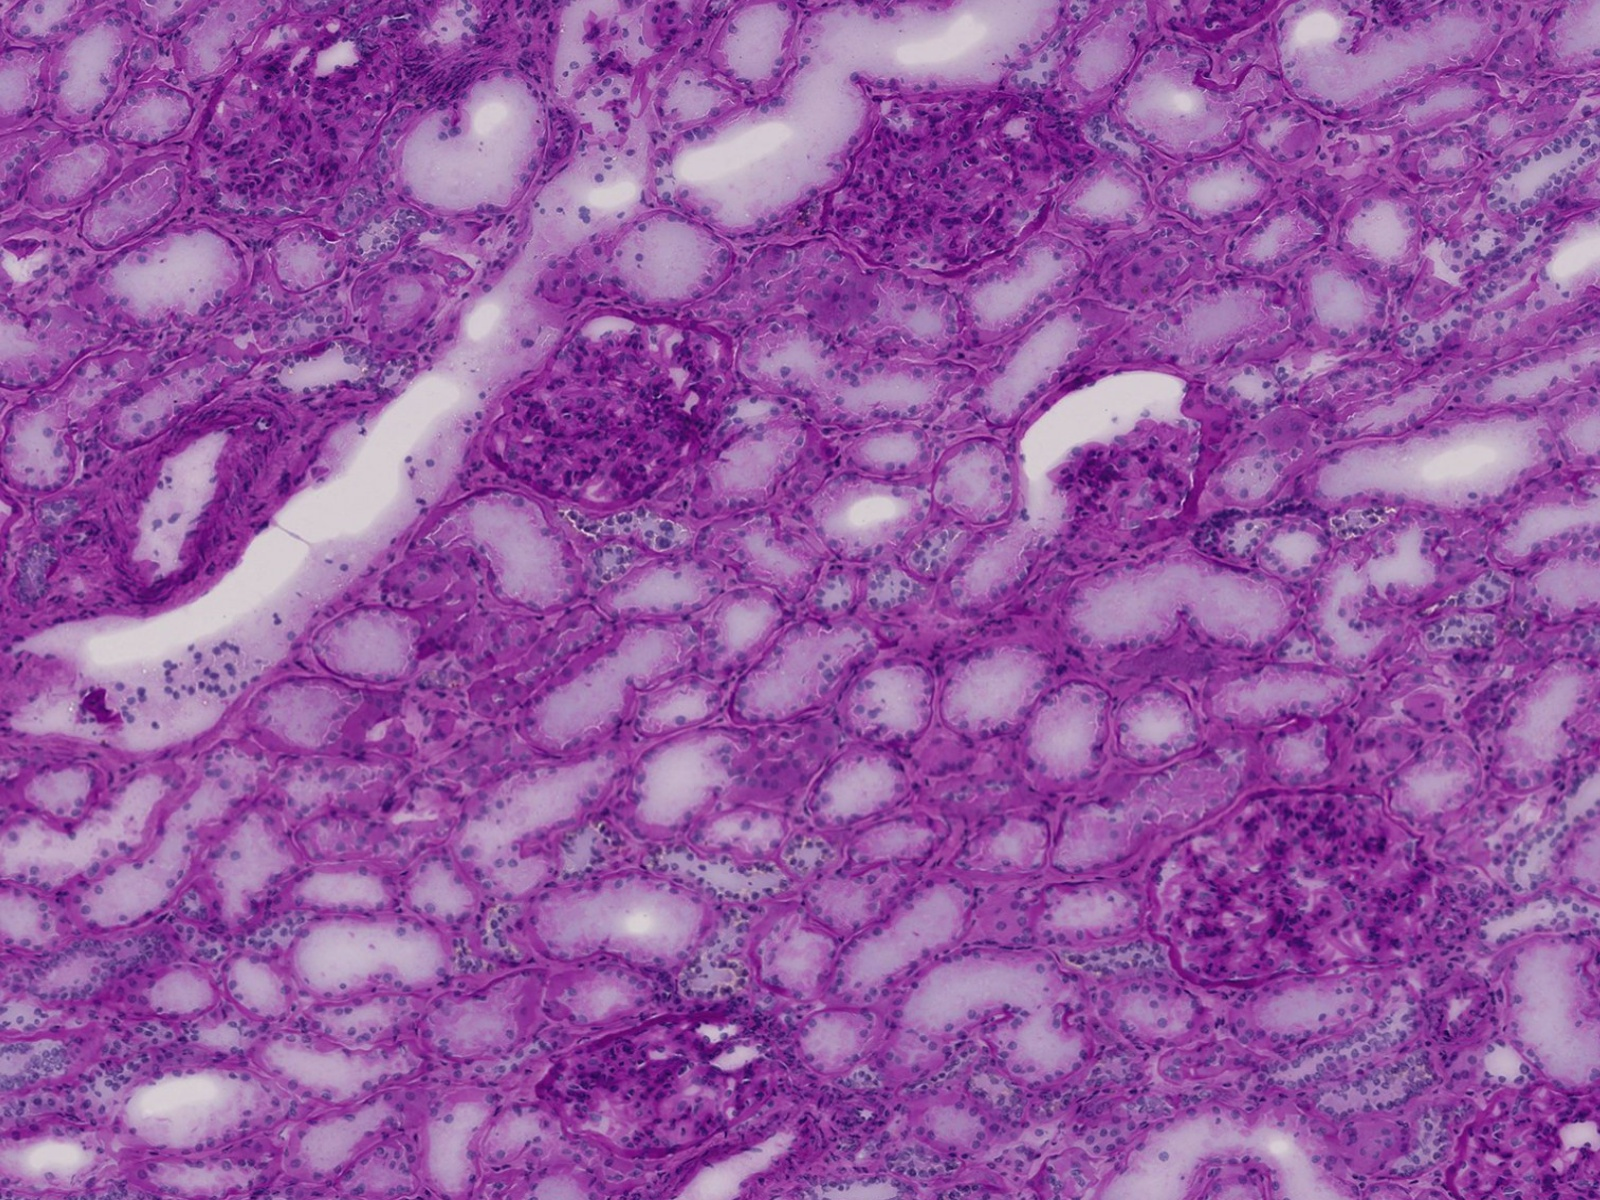Glomeruli: (1151, 782, 1468, 1000), (474, 305, 753, 508), (813, 79, 1068, 291), (183, 8, 407, 226), (535, 1000, 808, 1158), (1443, 1079, 1600, 1197)
